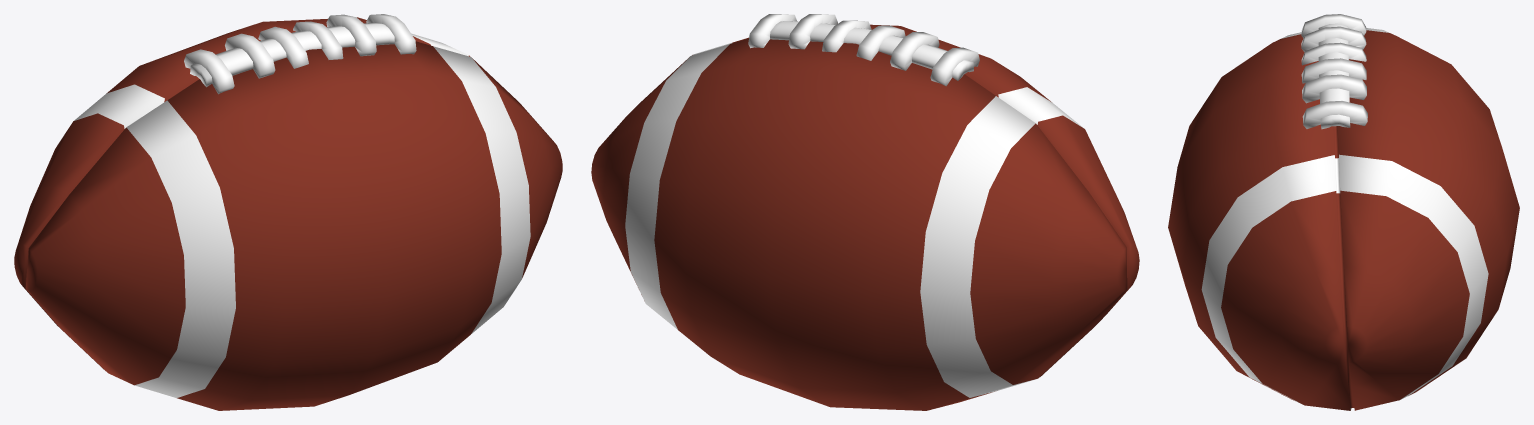
Rendered from Soccer.fbx.
3 views of the same model, side by side, from view 1: azimuth 30°, elevation 25°; view 2: azimuth 150°, elevation 25°; view 3: azimuth 270°, elevation 25° (orthographic). The views are drawn at different scales.
Parts seen in each view (by area): view 1: Soccer; view 2: Soccer; view 3: Soccer.
Boxes of the visible parts, x1,y1,x2,y2 form: Soccer: (14, 14, 562, 410); Soccer: (591, 14, 1139, 410); Soccer: (1168, 14, 1519, 410).
Bounding box in the file's own units: 226 × 149 × 145.
